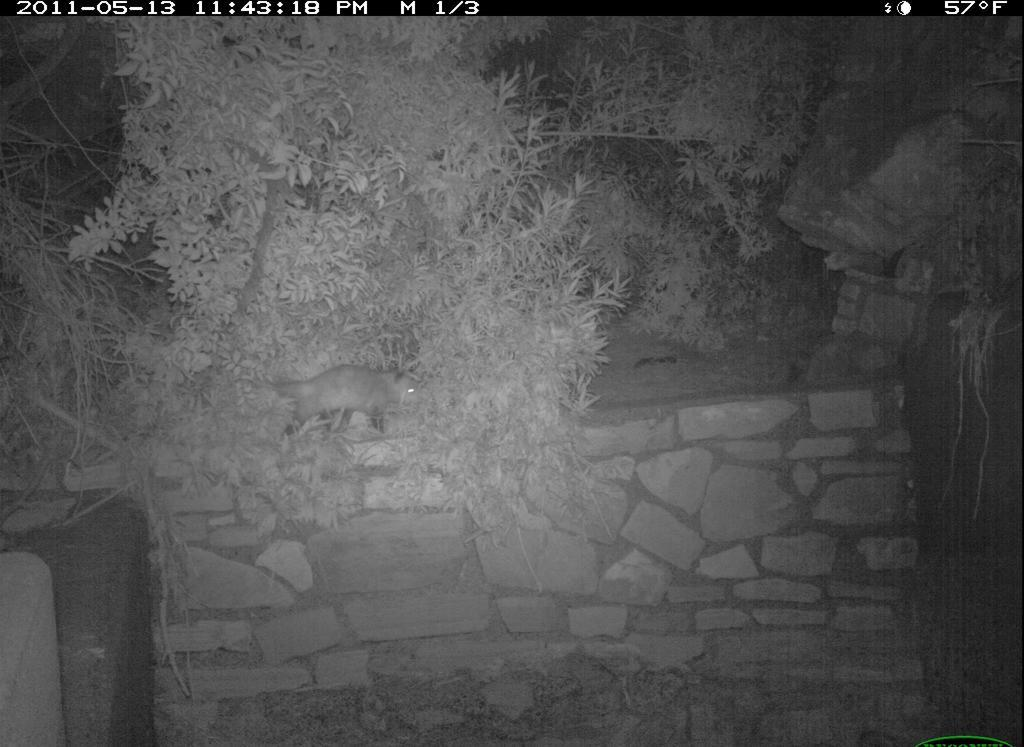opossum: (250, 356, 427, 456)
